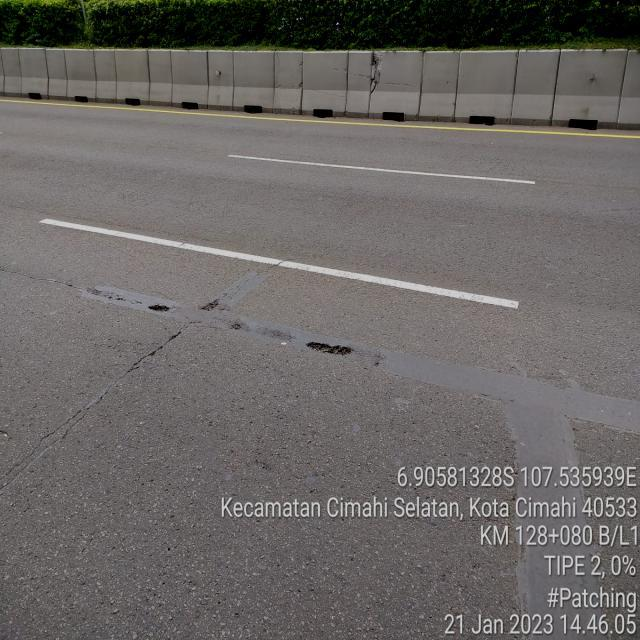Buraco: (304, 340, 357, 358), (145, 302, 173, 314)
